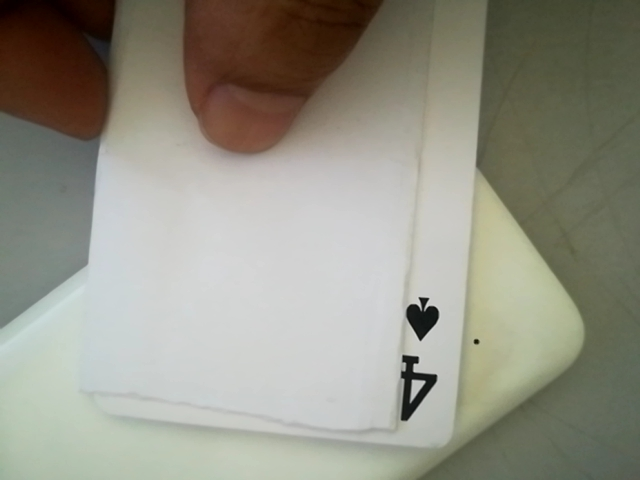ht 4: (378, 284, 461, 437)
